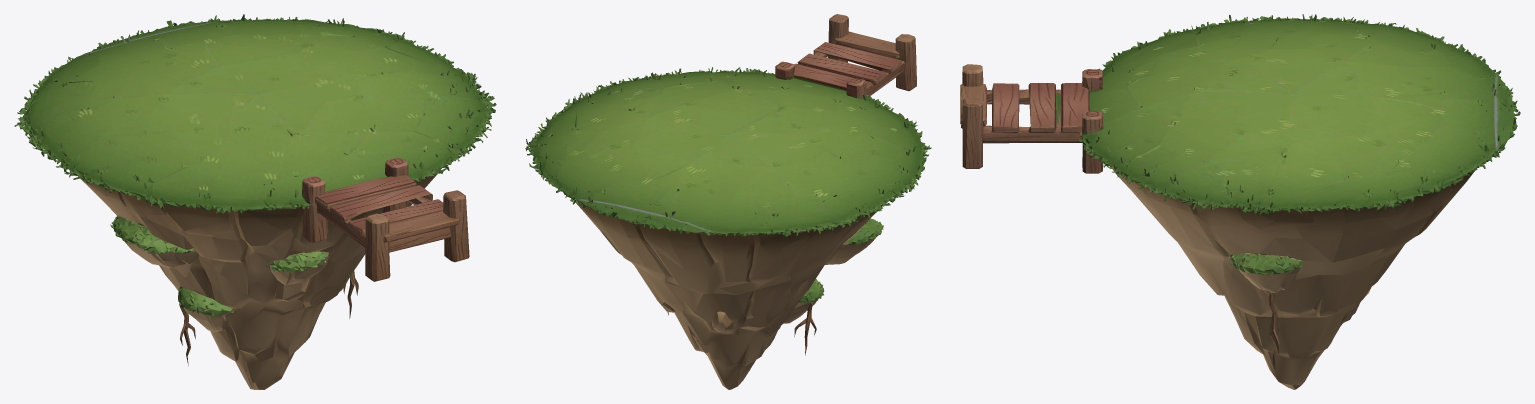
The model's file is island-base.glb.
The picture shows the model from 3 angles, left to right: view 1: azimuth 30°, elevation 25°; view 2: azimuth 150°, elevation 25°; view 3: azimuth 270°, elevation 25°; orthographic projection. The views are drawn at different scales.
Size of the model in its own units: 1.58 by 1.14 by 1.9.
1 material, 1 textured.
